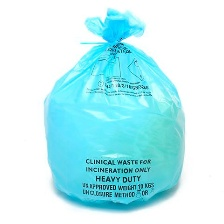plastic_bag: (41, 5, 198, 207)
